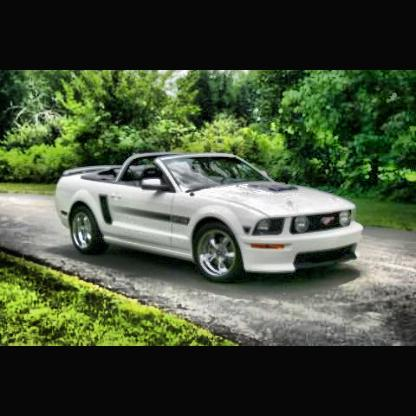Ford Mustang Convertible 2007: (55, 153, 367, 286)
